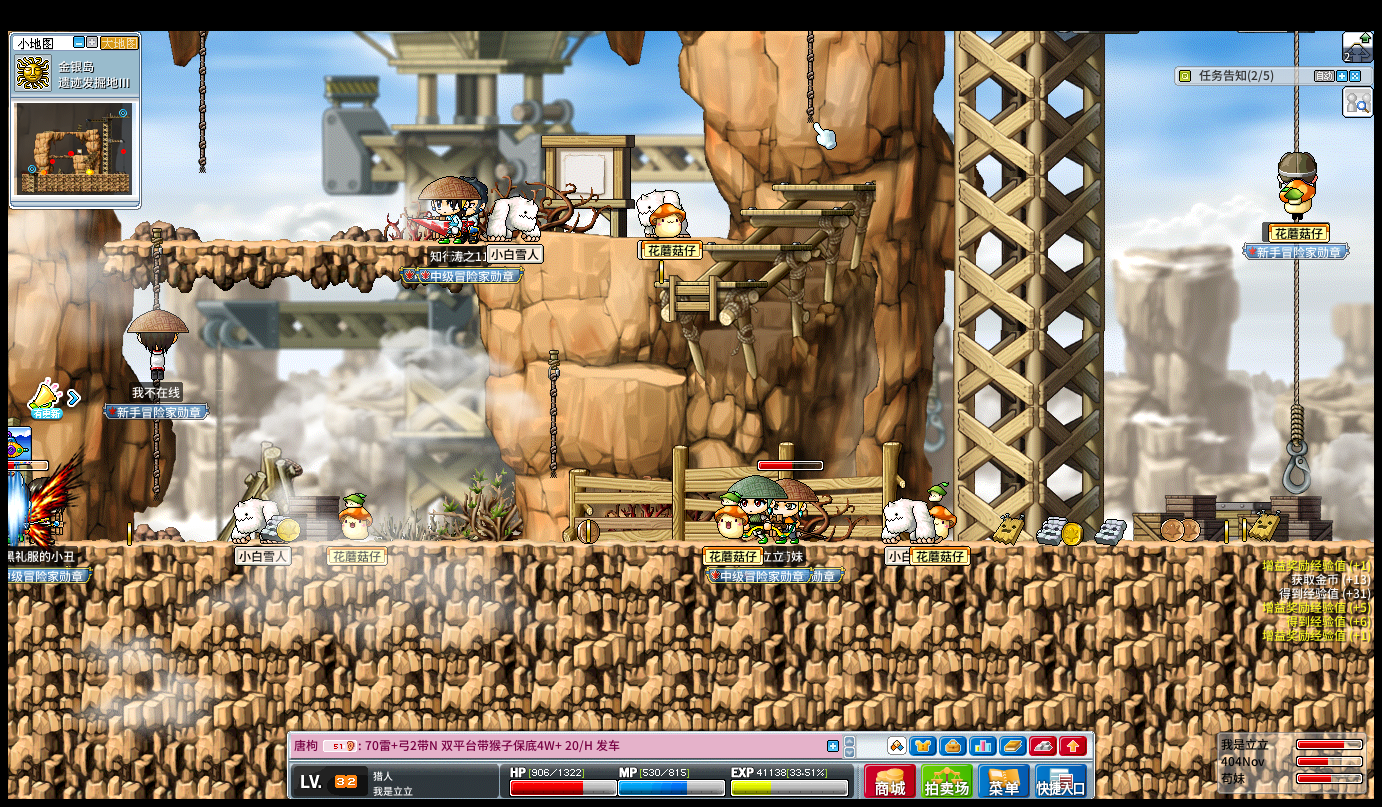floor: (105, 239, 483, 249), (578, 364, 688, 387), (601, 233, 735, 240), (650, 280, 767, 288), (697, 242, 813, 250), (737, 207, 852, 215), (771, 184, 877, 191)
rope: (546, 349, 561, 482), (1292, 256, 1302, 405), (198, 32, 207, 173), (805, 29, 814, 124), (1292, 30, 1299, 148), (152, 227, 162, 307), (1289, 399, 1304, 444), (152, 420, 160, 503)
